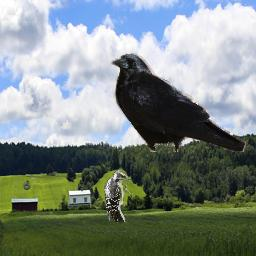Crow: (110, 53, 246, 152)
Woodpecker: (104, 170, 131, 224)
